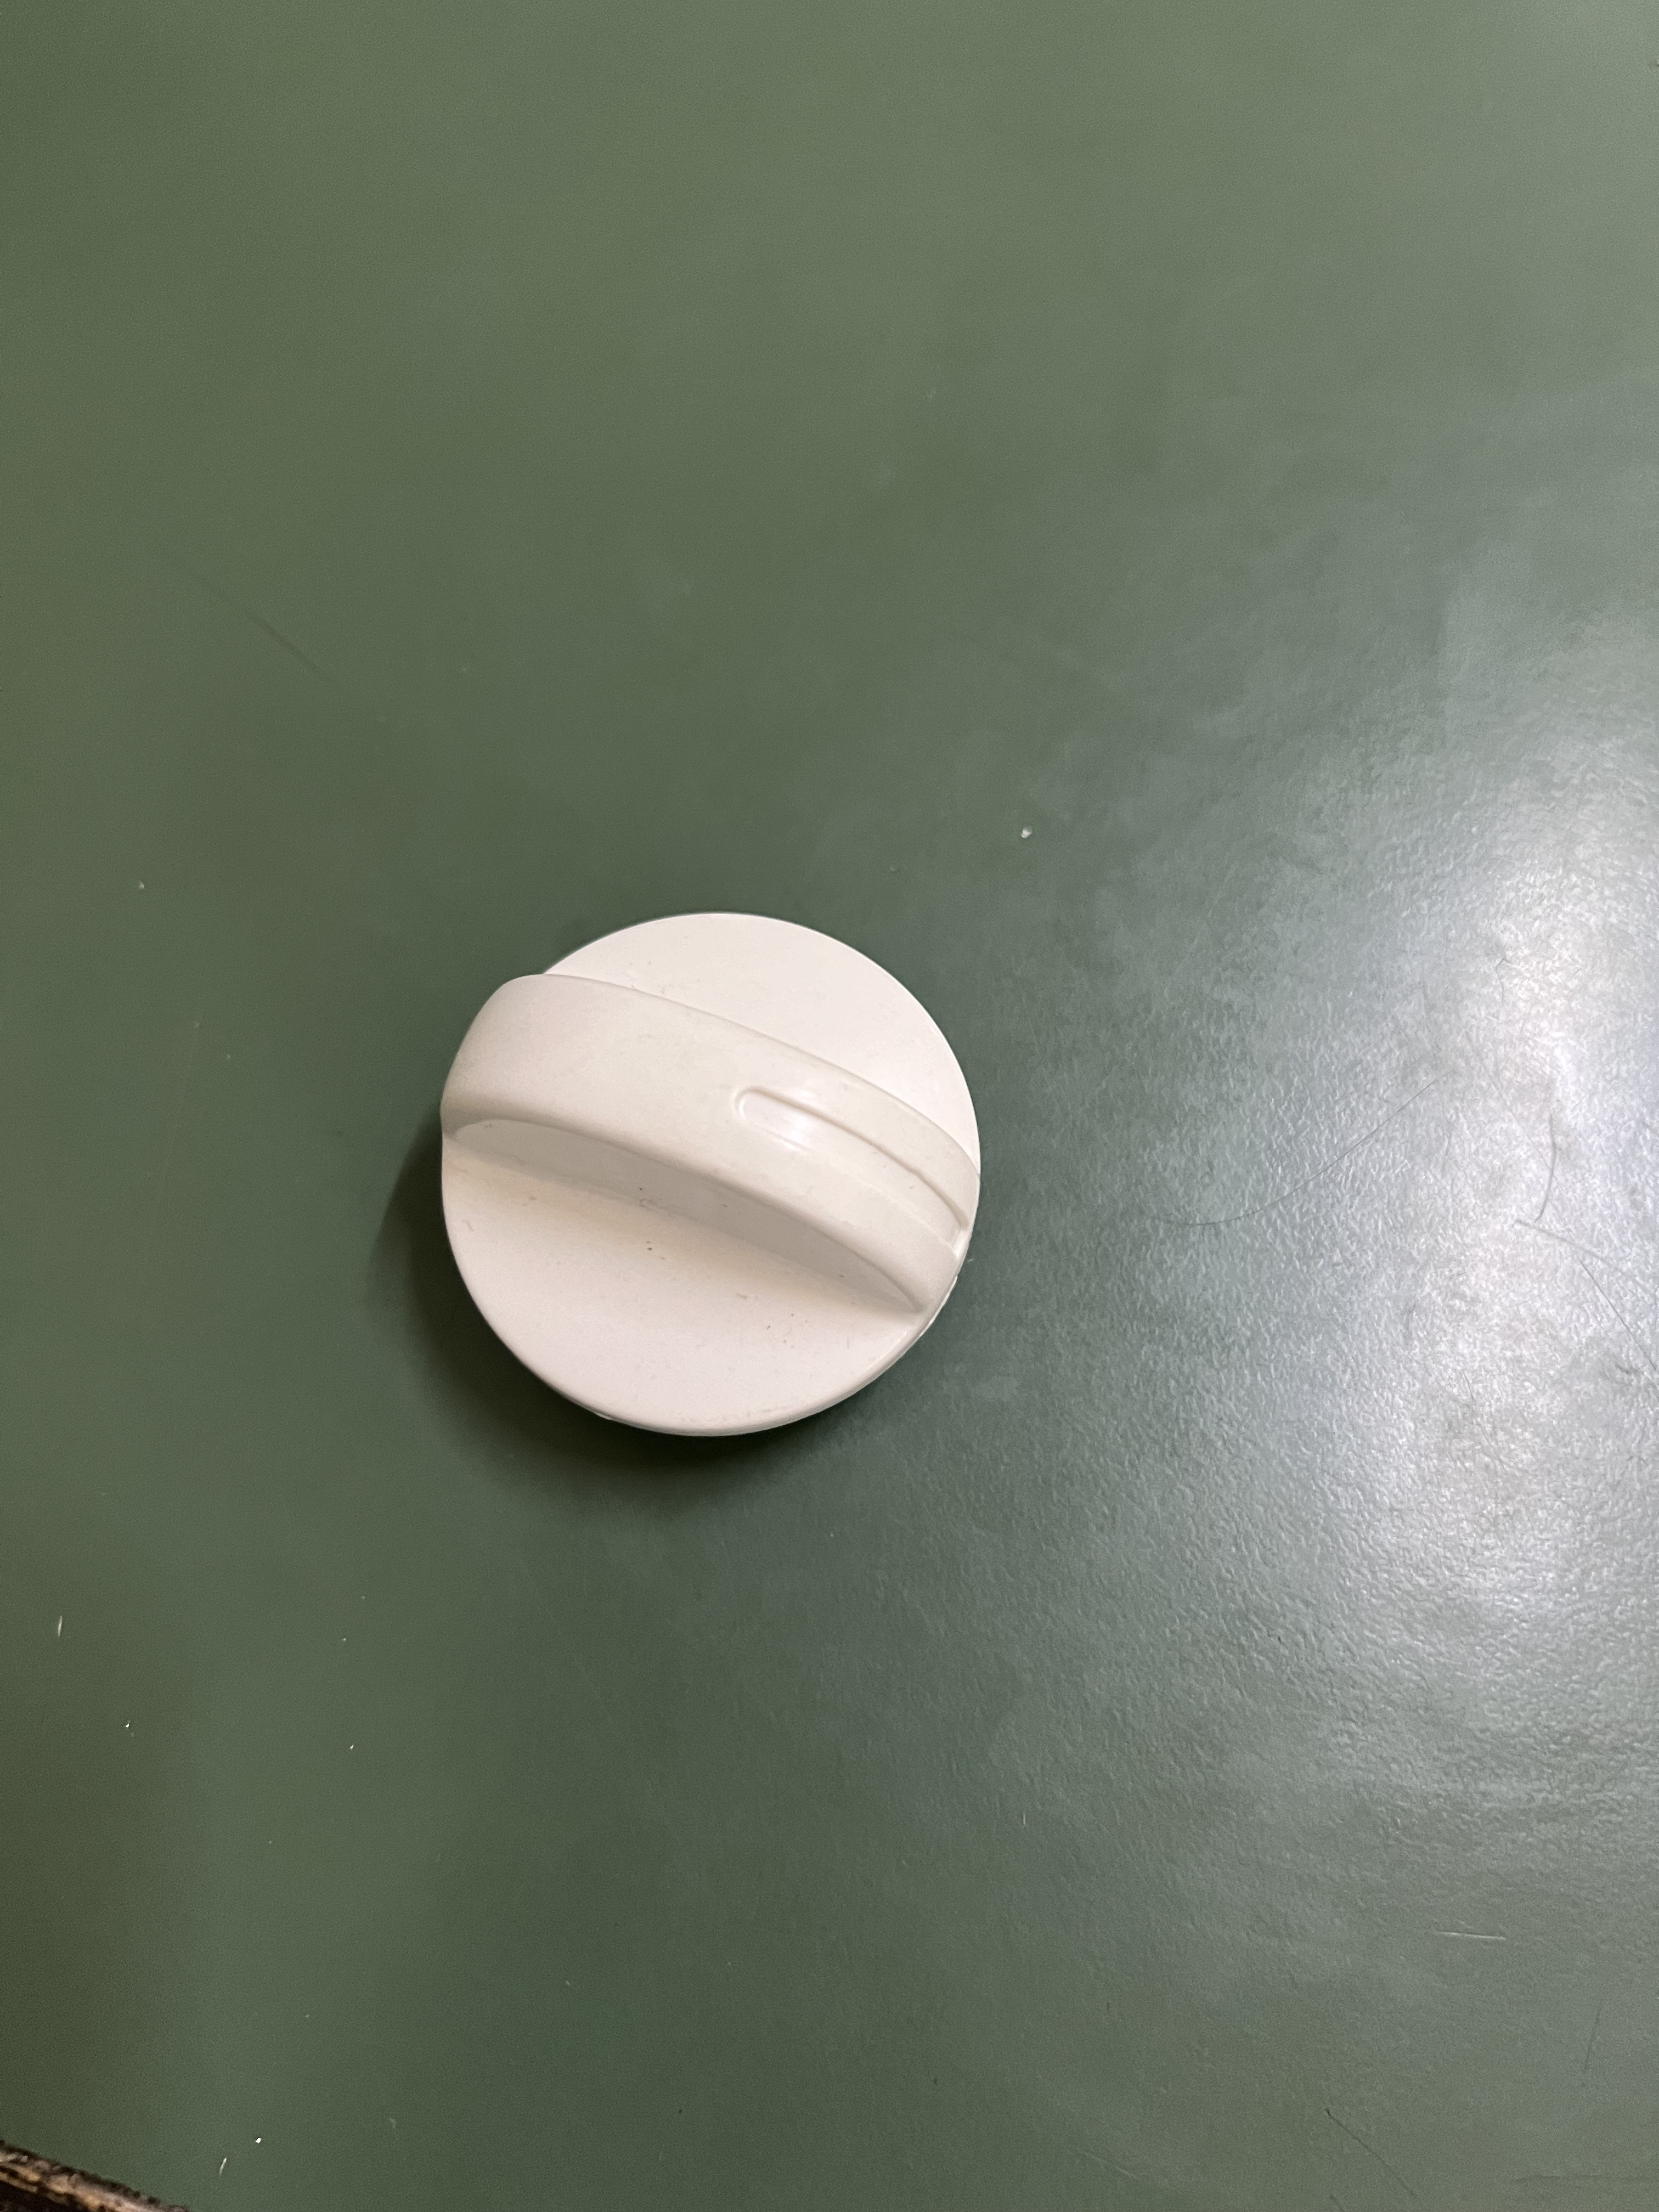regulator: (441, 873, 981, 1500)
